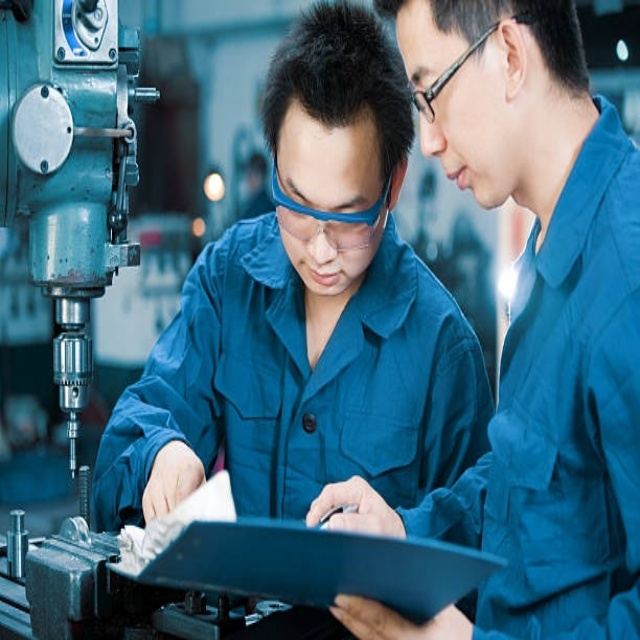Gafas: (407, 15, 522, 124), (271, 152, 393, 254)
Sin_guantes: (137, 433, 216, 535), (306, 476, 404, 539), (329, 589, 449, 640)
Sin_mascara: (436, 149, 501, 210), (296, 257, 353, 298)
